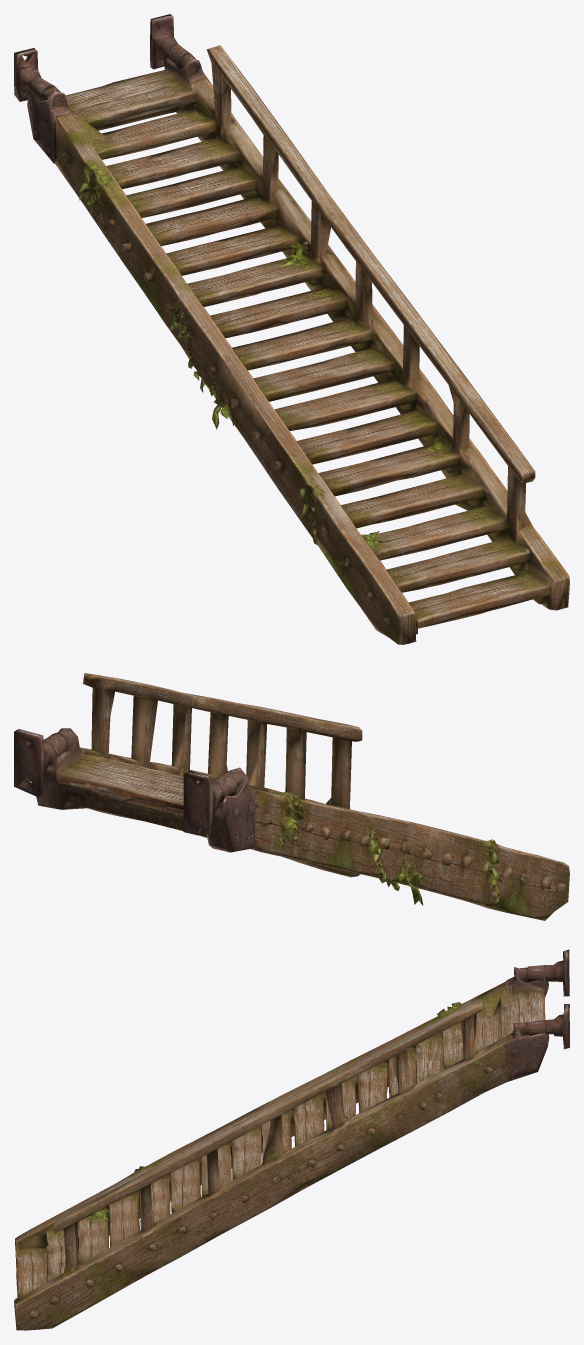
The model's file is bell_stair.glb.
The picture shows the model from 3 angles, top to bottom: view 1: azimuth 30°, elevation 25°; view 2: azimuth 150°, elevation 25°; view 3: azimuth 270°, elevation 25°; orthographic projection. The views are drawn at different scales.
Visible parts, largest first — view 1: wooden staircase 3d model; view 2: wooden staircase 3d model; view 3: wooden staircase 3d model.
Boxes of the visible parts, x1,y1,x2,y2 form: wooden staircase 3d model: (14, 14, 569, 644); wooden staircase 3d model: (14, 673, 569, 920); wooden staircase 3d model: (14, 949, 569, 1330).
Bounding box in the file's own units: 4.75 × 7.5 × 12.5.
Materials: 1 (1 with a texture image).
